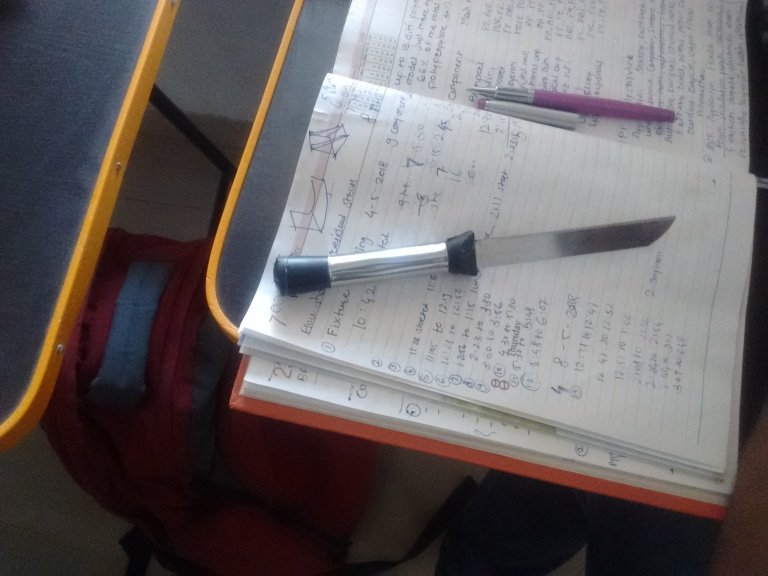knife: (269, 211, 682, 298)
